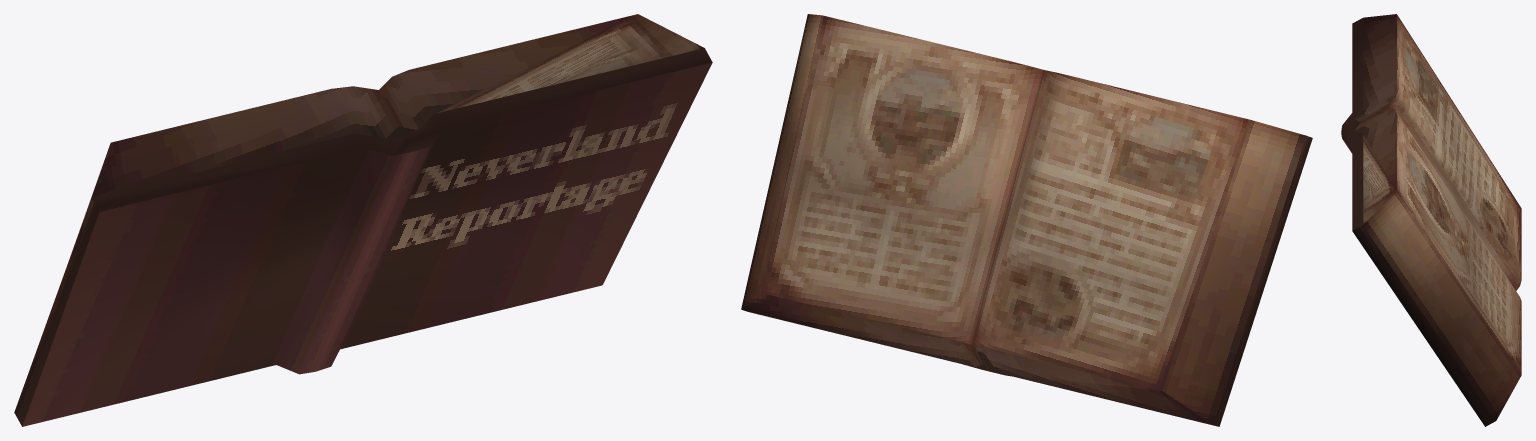
Rendered from ps2_save-icons_neverlandkenkyuushi.glb.
3 renders of one model, left to right at view 1: azimuth 30°, elevation 25°; view 2: azimuth 150°, elevation 25°; view 3: azimuth 270°, elevation 25°, orthographic. The views are drawn at different scales.
Parts seen in each view (by area): view 1: static.ico; view 2: static.ico; view 3: static.ico.
Boxes of the visible parts, bbox=[...] form: static.ico: bbox=[14, 14, 712, 426]; static.ico: bbox=[741, 14, 1312, 426]; static.ico: bbox=[1341, 14, 1521, 426].
Size of the model in its own units: 4.91 by 2.55 by 1.81.
1 material, 1 textured.
